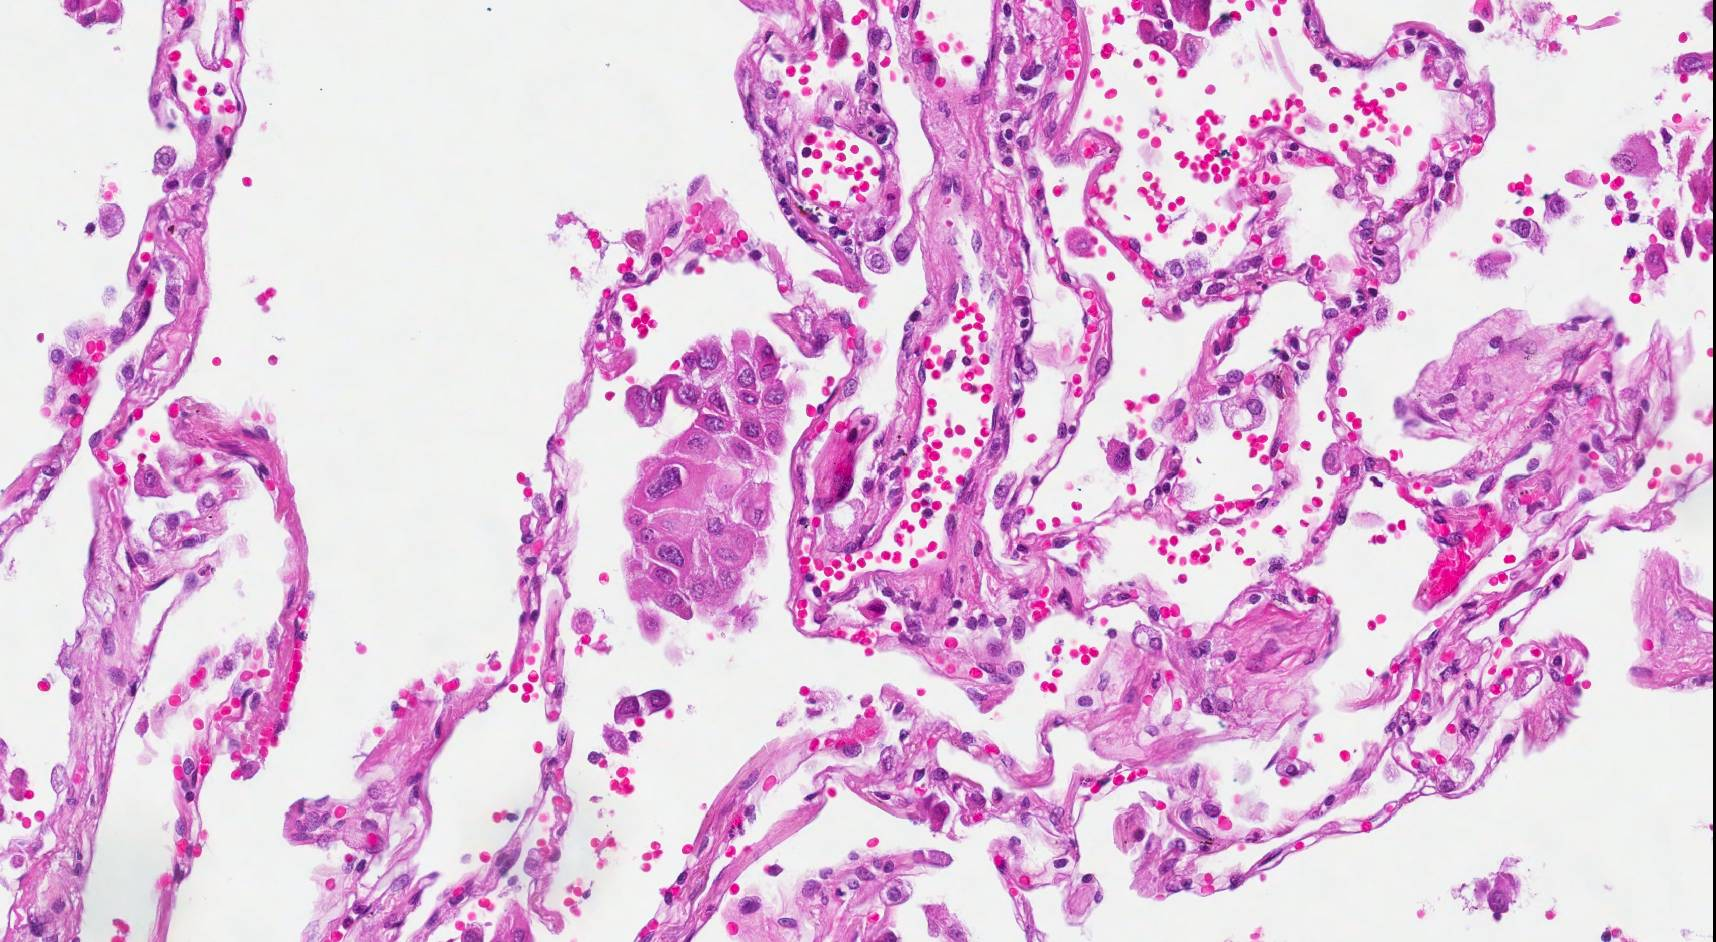stas: (619, 332, 785, 640), (607, 683, 673, 724)
